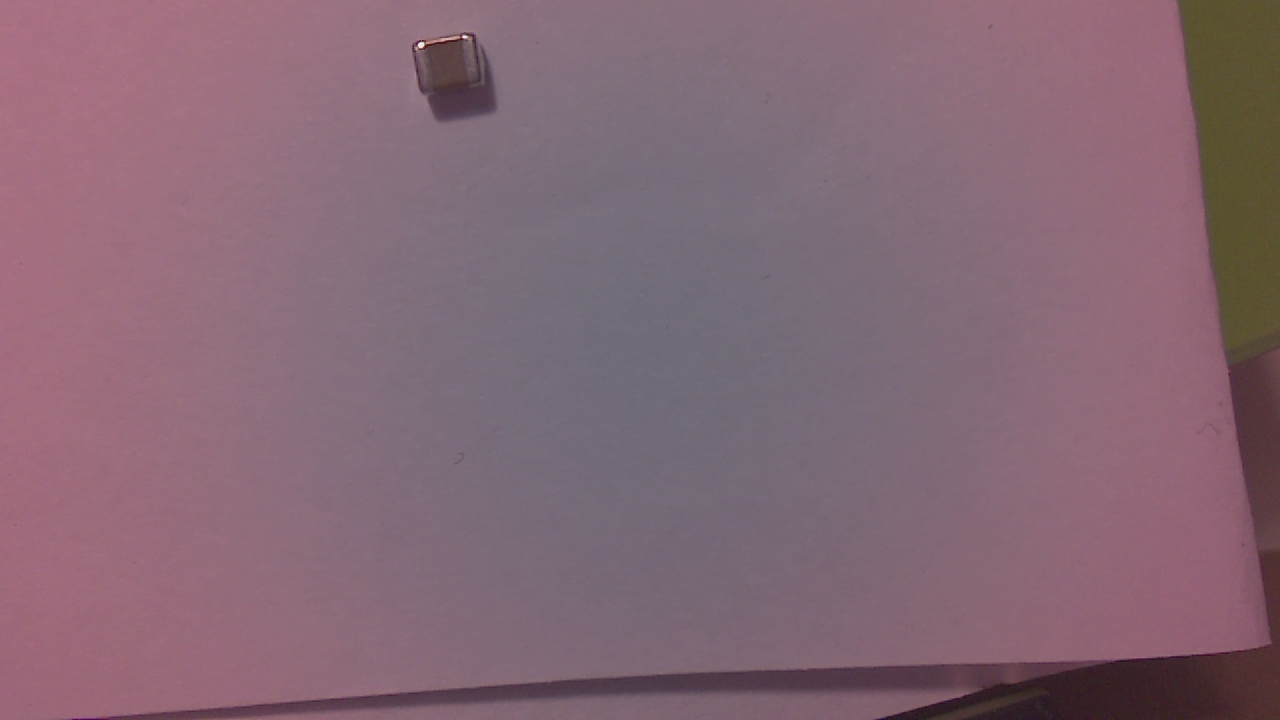Condensator: (416, 39, 494, 107)
